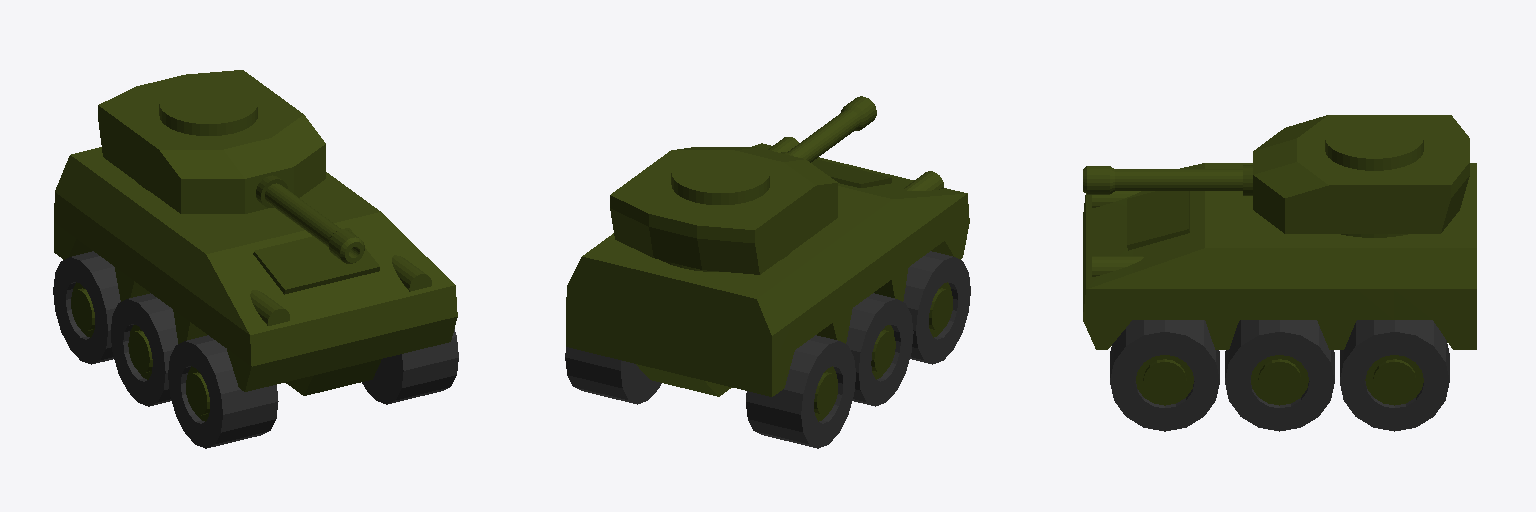
The model's file is car_03.obj.
The picture shows the model from 3 angles: view 1: azimuth 30°, elevation 25°; view 2: azimuth 150°, elevation 25°; view 3: azimuth 270°, elevation 25°; orthographic projection.
Parts seen in each view (by area): view 1: body.1, Cube, wheel.1, wheel.2, wheel, Cylinder, Cube.1, Cylinder.1, Cylinder.3; view 2: body.1, Cube, wheel, wheel.1, wheel.2, Cylinder, Cylinder.1, Cube.1, Cylinder.3; view 3: body.1, Cube, wheel, wheel.1, wheel.2, Cylinder, Cylinder.1, Cube.1, Cylinder.3.
Boxes of the visible parts, box(x1,y1,x2,y2) form: body.1: box(54, 147, 457, 395); Cube: box(98, 70, 325, 213); wheel.1: box(168, 329, 458, 448); wheel.2: box(111, 293, 177, 406); wheel: box(53, 251, 120, 364); Cylinder: box(159, 83, 257, 135); Cube.1: box(253, 228, 379, 294); Cylinder.1: box(256, 175, 364, 263); Cylinder.3: box(250, 255, 431, 325); body.1: box(566, 143, 969, 396); Cube: box(610, 147, 837, 274); wheel: box(565, 335, 855, 448); wheel.1: box(903, 251, 970, 364); wheel.2: box(846, 293, 913, 406); Cylinder: box(671, 152, 769, 204); Cylinder.1: box(781, 96, 876, 162); Cube.1: box(811, 159, 891, 187); Cylinder.3: box(768, 137, 943, 190); body.1: box(1083, 163, 1476, 349); Cube: box(1253, 115, 1469, 233); wheel: box(1340, 320, 1449, 431); wheel.1: box(1110, 320, 1219, 431); wheel.2: box(1225, 320, 1334, 431); Cylinder: box(1325, 117, 1423, 170); Cylinder.1: box(1083, 165, 1252, 195); Cube.1: box(1127, 191, 1189, 250); Cylinder.3: box(1092, 191, 1143, 276).
Bounding box in the file's own units: 104 × 98.97 × 150.